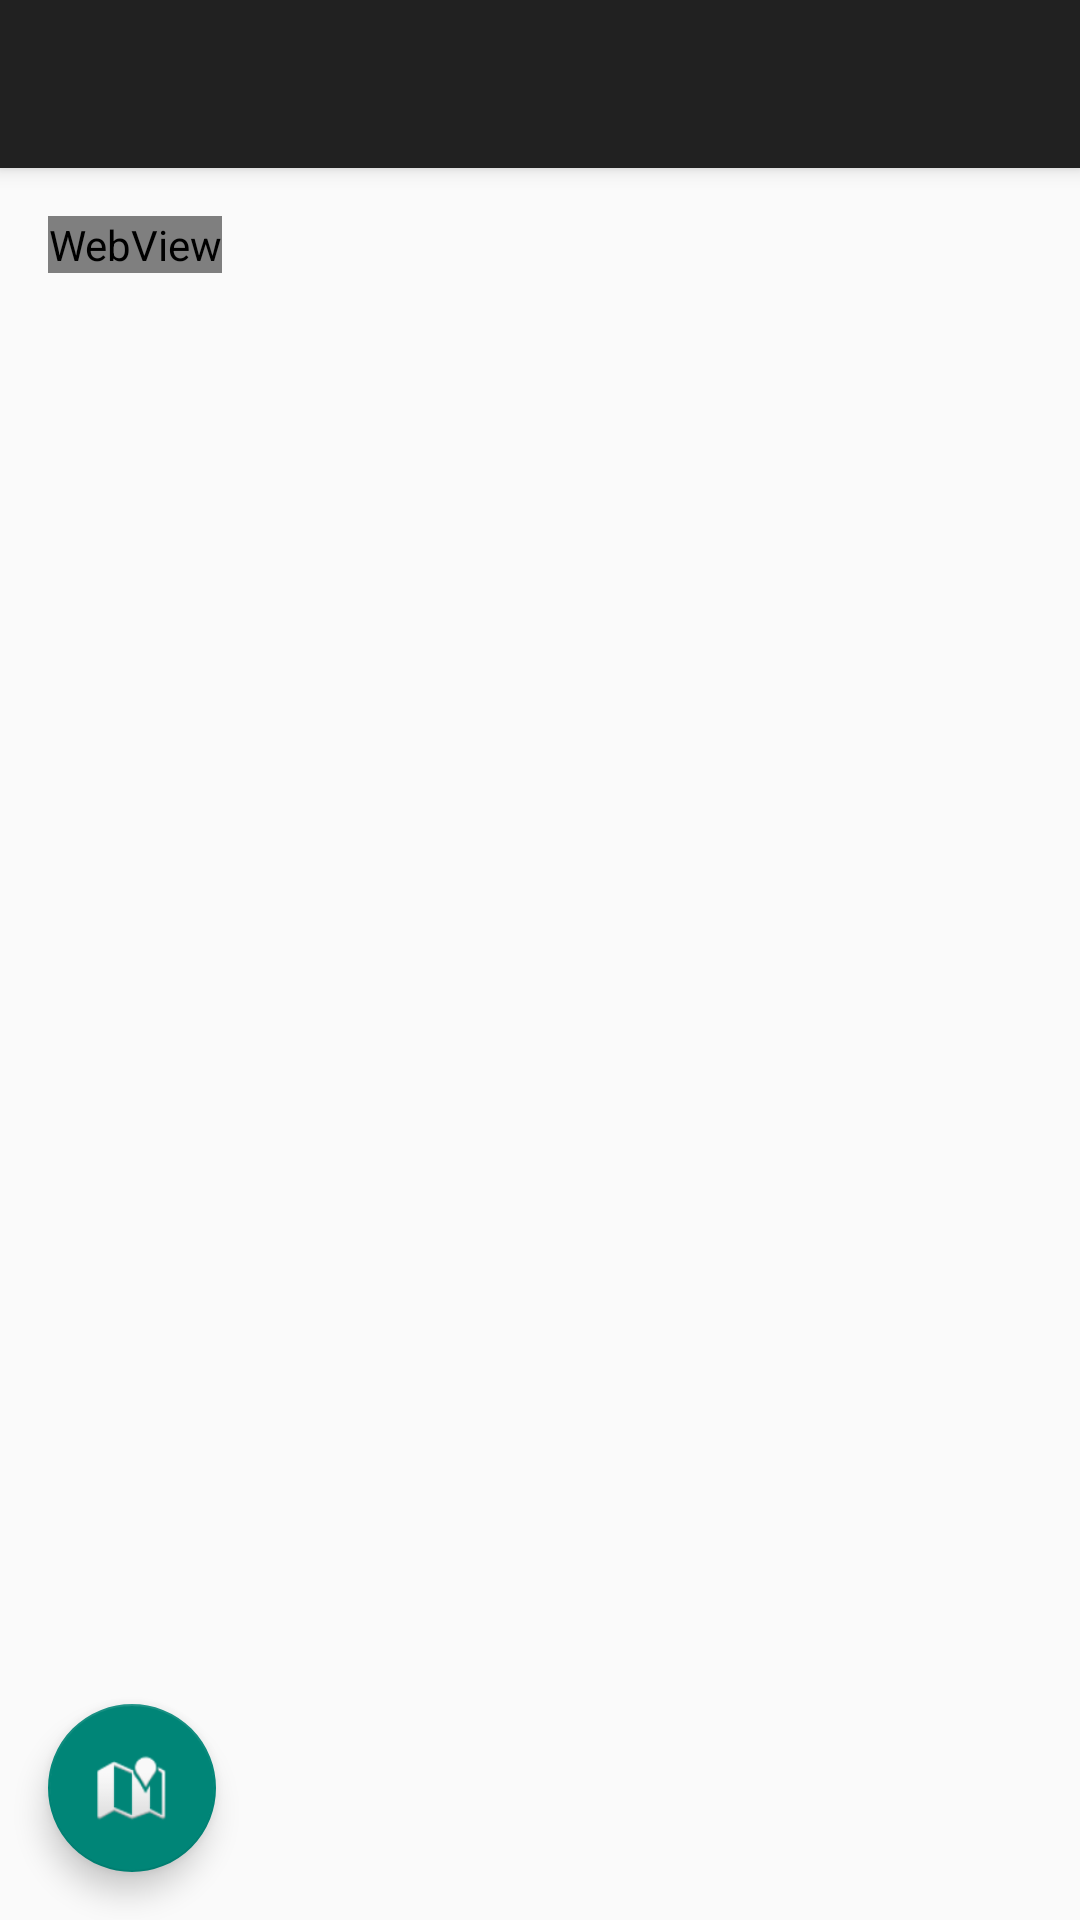

Named icons in this screenshot (1080w x 1920h) and their bounding boxes, (x1, y1, x2, y2):
map: (48, 1704, 216, 1872)
